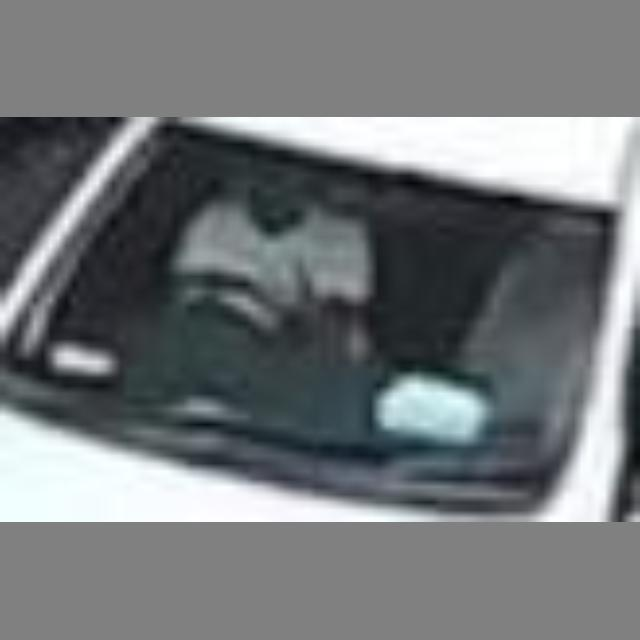tidak-pakai: (148, 164, 359, 367), (445, 218, 609, 414)
